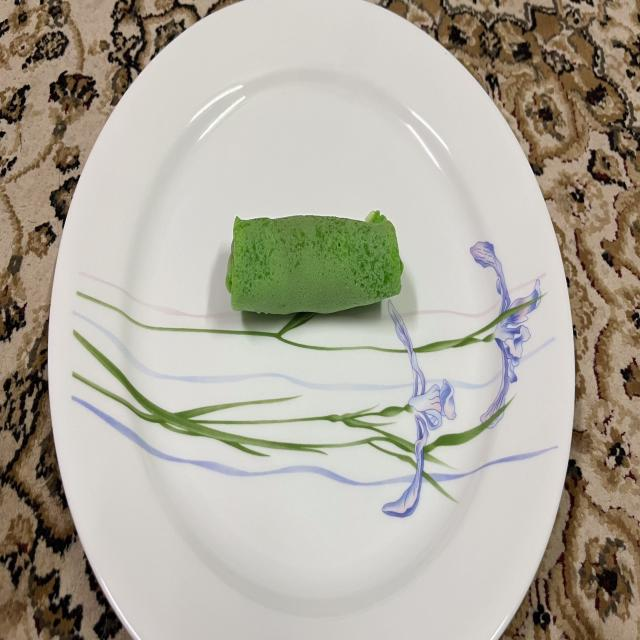Kuih-Ketayap: (226, 211, 404, 313)
